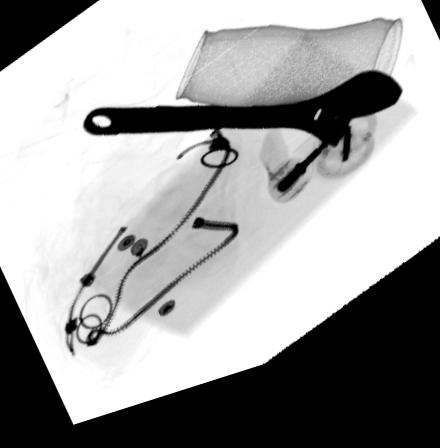Wrench: (80, 92, 403, 170)
